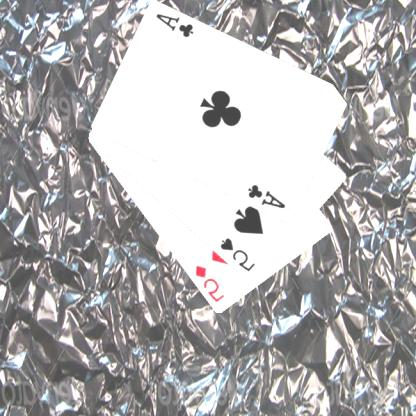5D: (194, 262, 228, 304)
5S: (219, 235, 258, 273)
AC: (155, 11, 197, 40), (247, 182, 290, 210)
